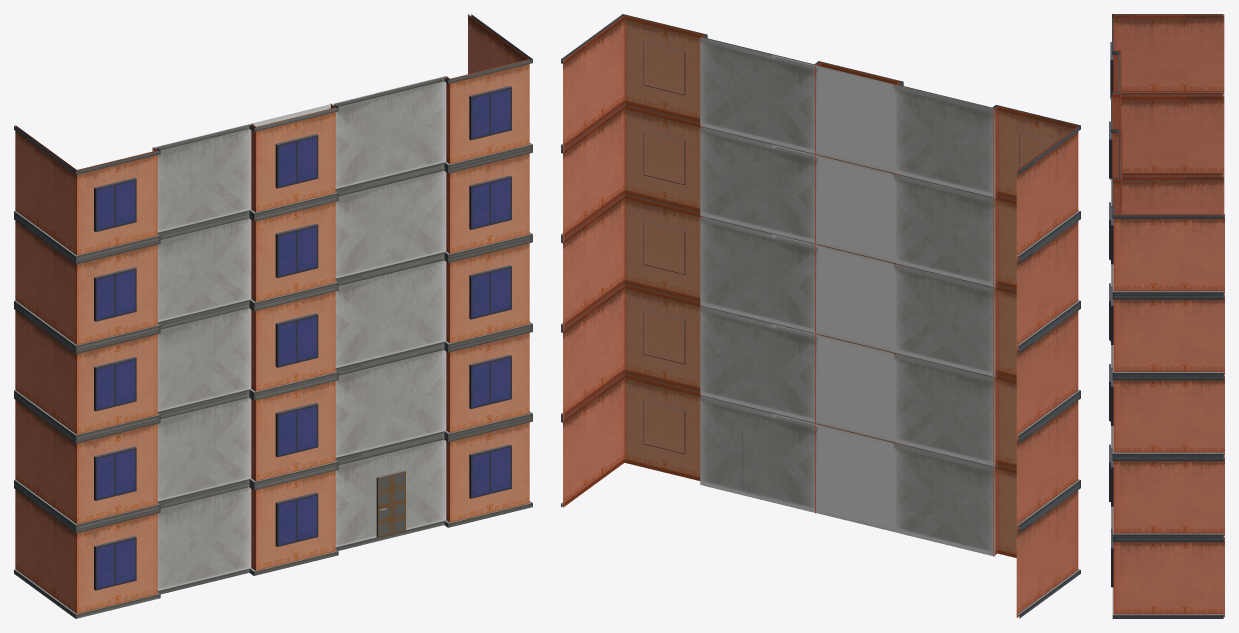
The model's file is House_5floors.fbx.
The picture shows the model from 3 angles, left to right: view 1: azimuth 30°, elevation 25°; view 2: azimuth 150°, elevation 25°; view 3: azimuth 270°, elevation 25°; orthographic projection. The views are drawn at different scales.
Parts seen in each view (by area): view 1: Cube.004; view 2: Cube.004; view 3: Cube.004.
Part boxes in pixels (x1,y1,x2,y2): Cube.004: [14, 14, 532, 618]; Cube.004: [561, 14, 1080, 618]; Cube.004: [1109, 14, 1224, 618].
Size of the model in its own units: 1757 by 1644 by 428.
